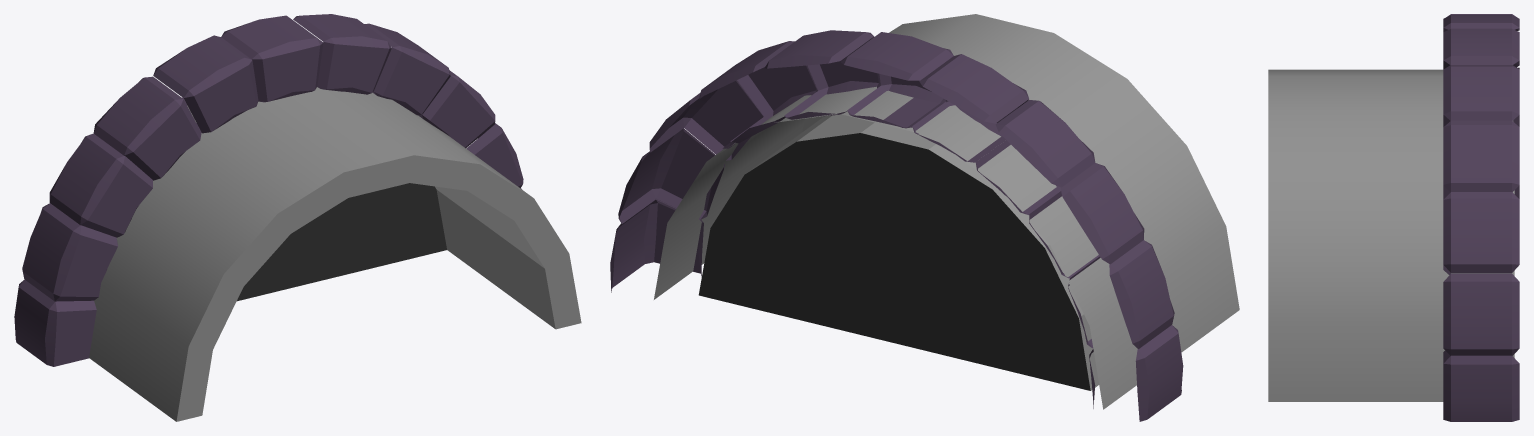
Rendered from Desague.fbx.
The picture shows the model from 3 angles, left to right: view 1: azimuth 30°, elevation 25°; view 2: azimuth 150°, elevation 25°; view 3: azimuth 270°, elevation 25°; orthographic projection. The views are drawn at different scales.
Parts seen in each view (by area): view 1: polySurface1, polySurface3; view 2: polySurface1, polySurface3; view 3: polySurface1, polySurface3.
Part boxes in pixels (<box>): polySurface1: <box>89,87,581,421</box>; polySurface3: <box>14,14,523,366</box>; polySurface1: <box>654,14,1239,409</box>; polySurface3: <box>610,30,1183,421</box>; polySurface1: <box>1268,69,1514,401</box>; polySurface3: <box>1443,14,1519,421</box>.
Size of the model in its own units: 5.29 by 2.75 by 2.37.
